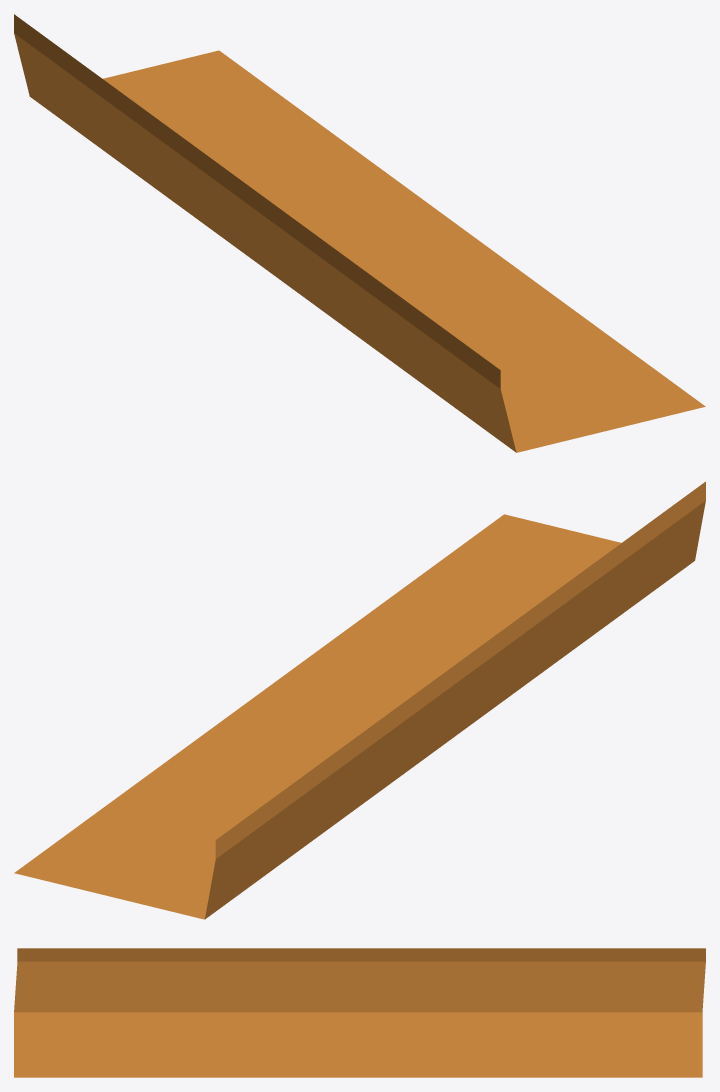
File: pip-e-scene-v0.1.glb
3 views of the same model, one above another, from view 1: azimuth 30°, elevation 25°; view 2: azimuth 150°, elevation 25°; view 3: azimuth 270°, elevation 25° (orthographic). The views are drawn at different scales.
Visible parts, largest first — view 1: Plane; view 2: Plane; view 3: Plane.
Boxes of the visible parts, box(x1,y1,x2,y2) form: Plane: box(14, 14, 705, 452); Plane: box(14, 481, 705, 919); Plane: box(14, 948, 705, 1077).
Bounding box in the file's own units: 1.83 × 0.7237 × 7.64.
